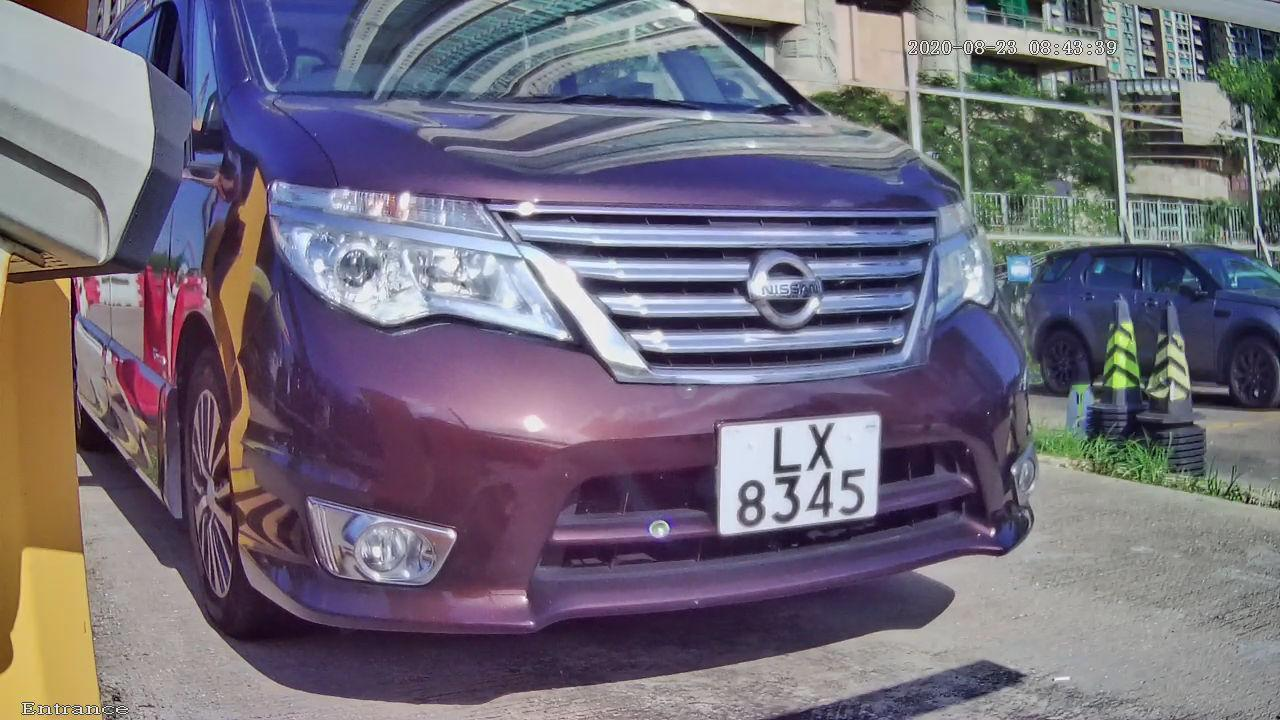Car: (58, 1, 1109, 720)
License Plate: (703, 396, 892, 550)
